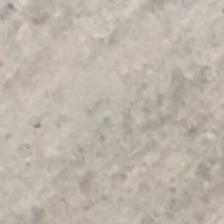Non_Crack: (25, 27, 199, 172)
